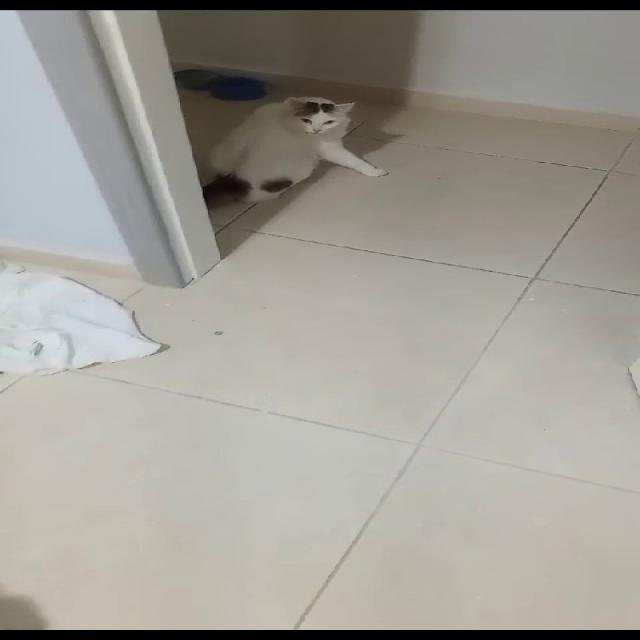Simba: (223, 87, 435, 239)
